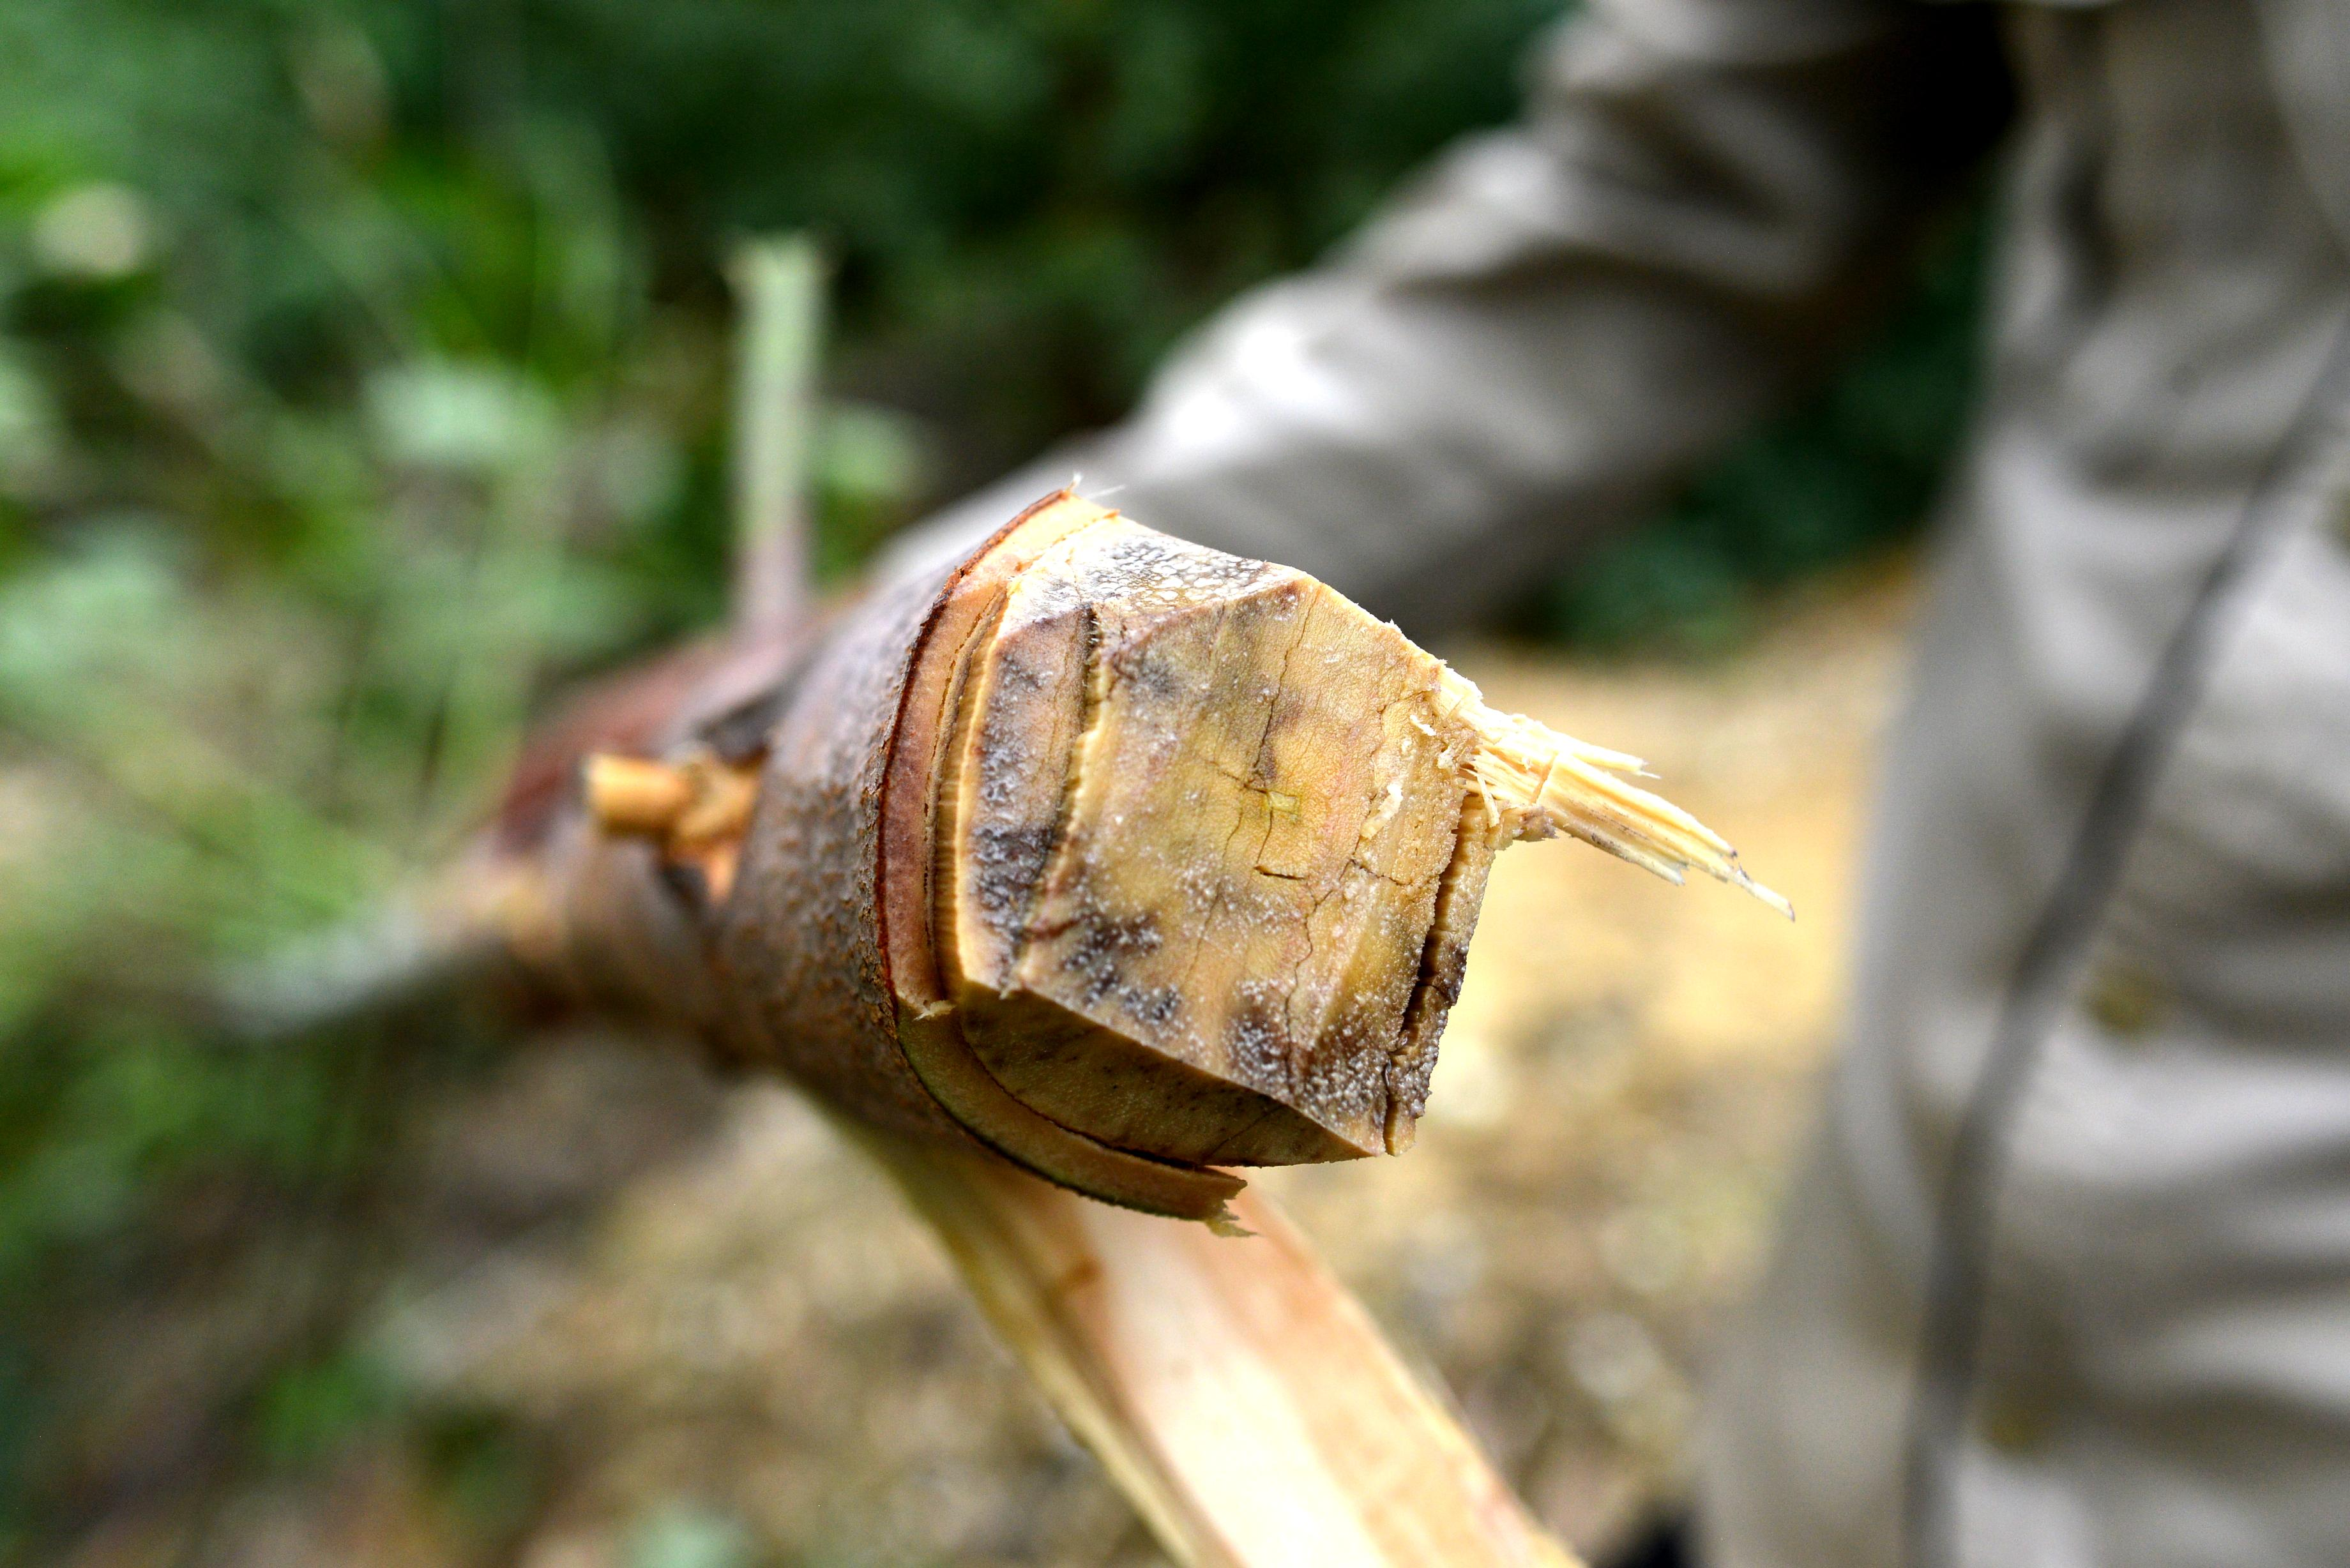Ralstonia: (1216, 952, 1454, 1137), (1001, 495, 1312, 626), (961, 660, 1060, 997), (1067, 838, 1211, 1064), (1228, 854, 1494, 938), (1108, 660, 1190, 786)
